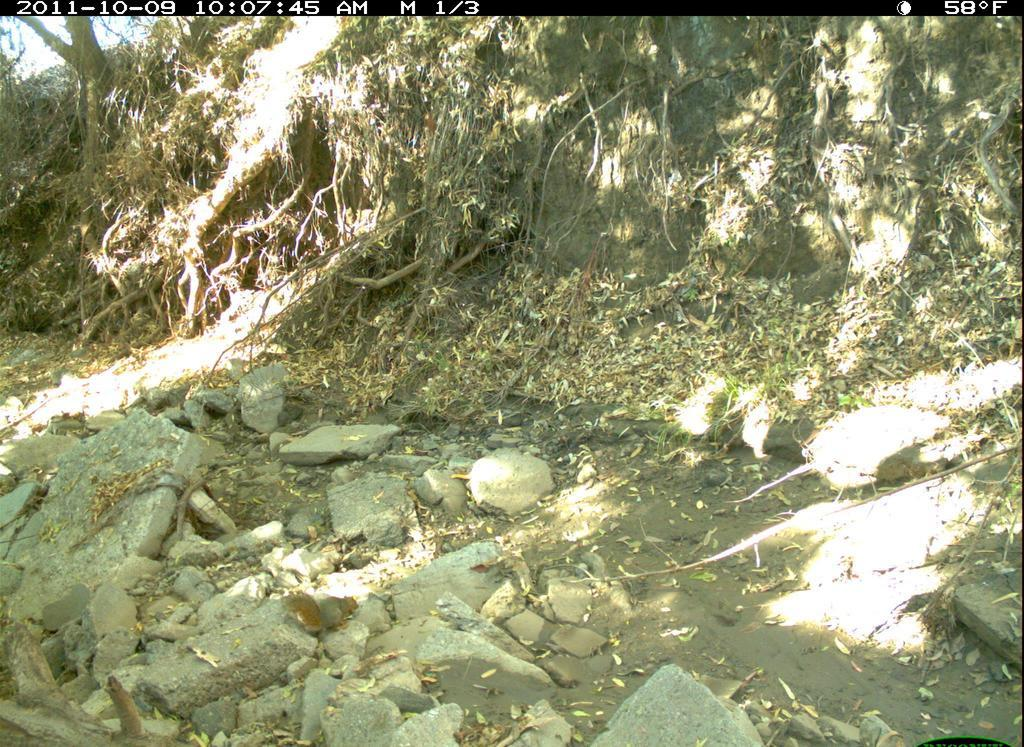squirrel: (273, 587, 367, 635)
